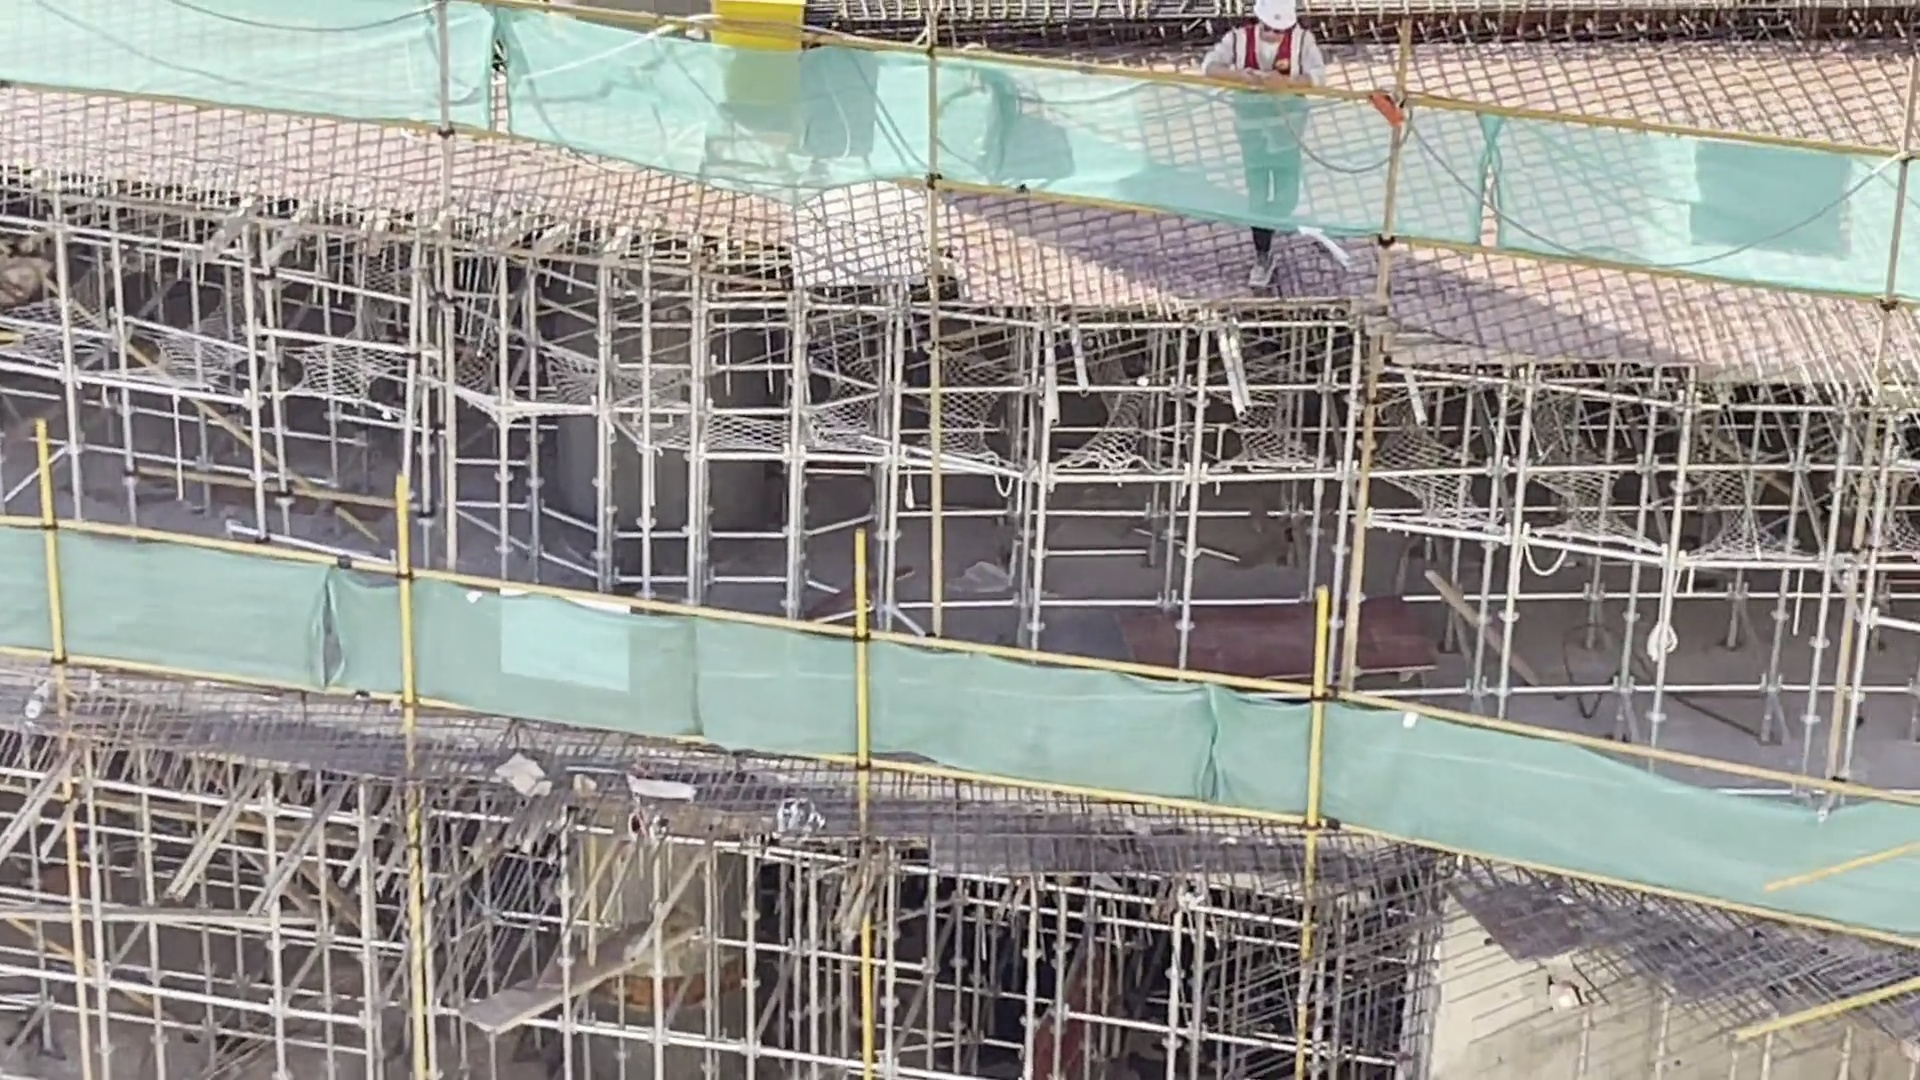ebox: (712, 1, 814, 120)
helmet: (1249, 1, 1297, 33)
person: (1205, 1, 1337, 275)
vest: (1222, 27, 1315, 131)
